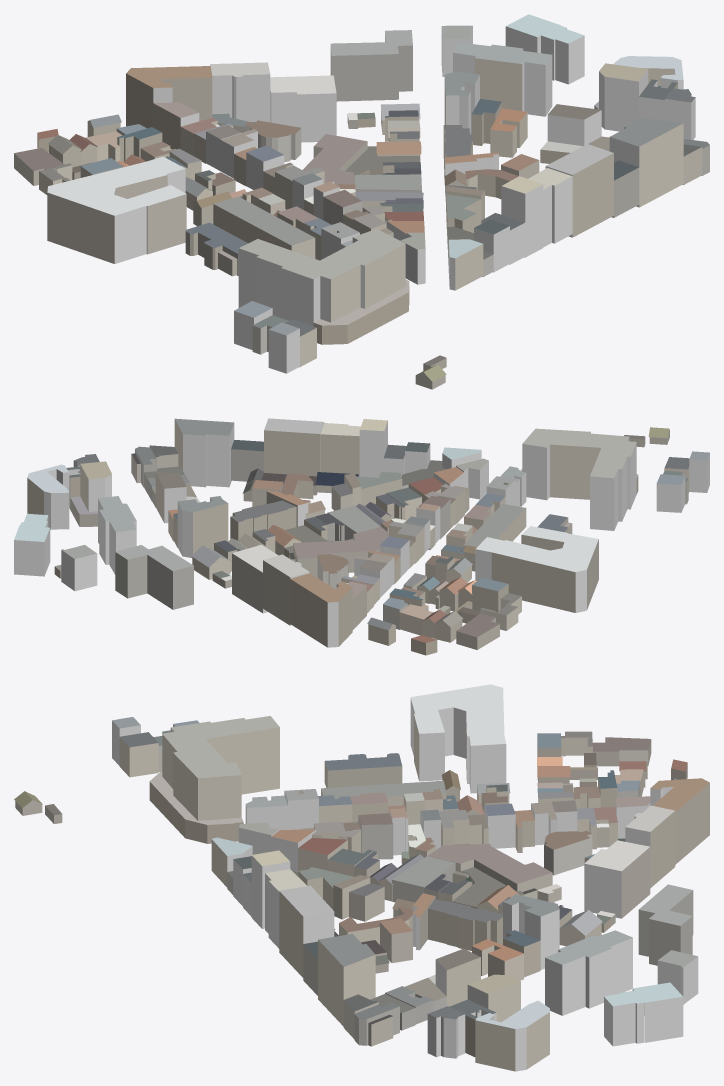
3 renders of one model, top to bottom at view 1: azimuth 30°, elevation 25°; view 2: azimuth 150°, elevation 25°; view 3: azimuth 270°, elevation 25°, orthographic. The views are drawn at different scales.
Parts seen in each view (by area): view 1: tuile; view 2: tuile; view 3: tuile.
Part boxes in pixels (x1=…): tuile: x1=14, y1=14, x2=709, y2=389; tuile: x1=14, y1=418, x2=709, y2=655; tuile: x1=14, y1=684, x2=709, y2=1071.
Bounding box in the file's own units: 280 × 34.98 × 265.
